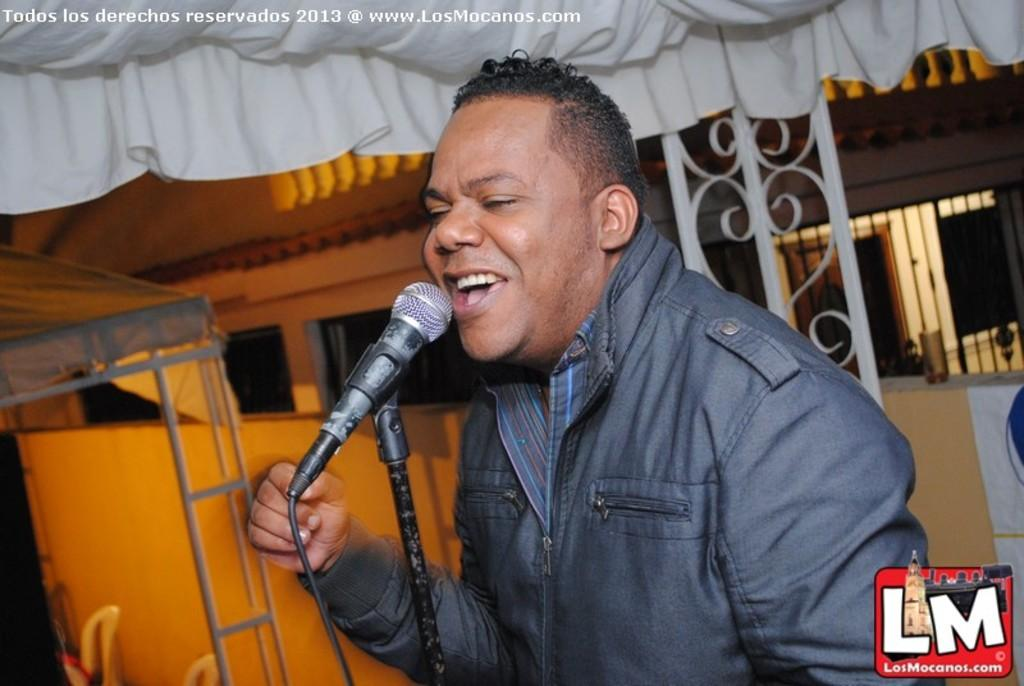no_helmet: (434, 139, 636, 208)
none: (470, 329, 868, 551)
